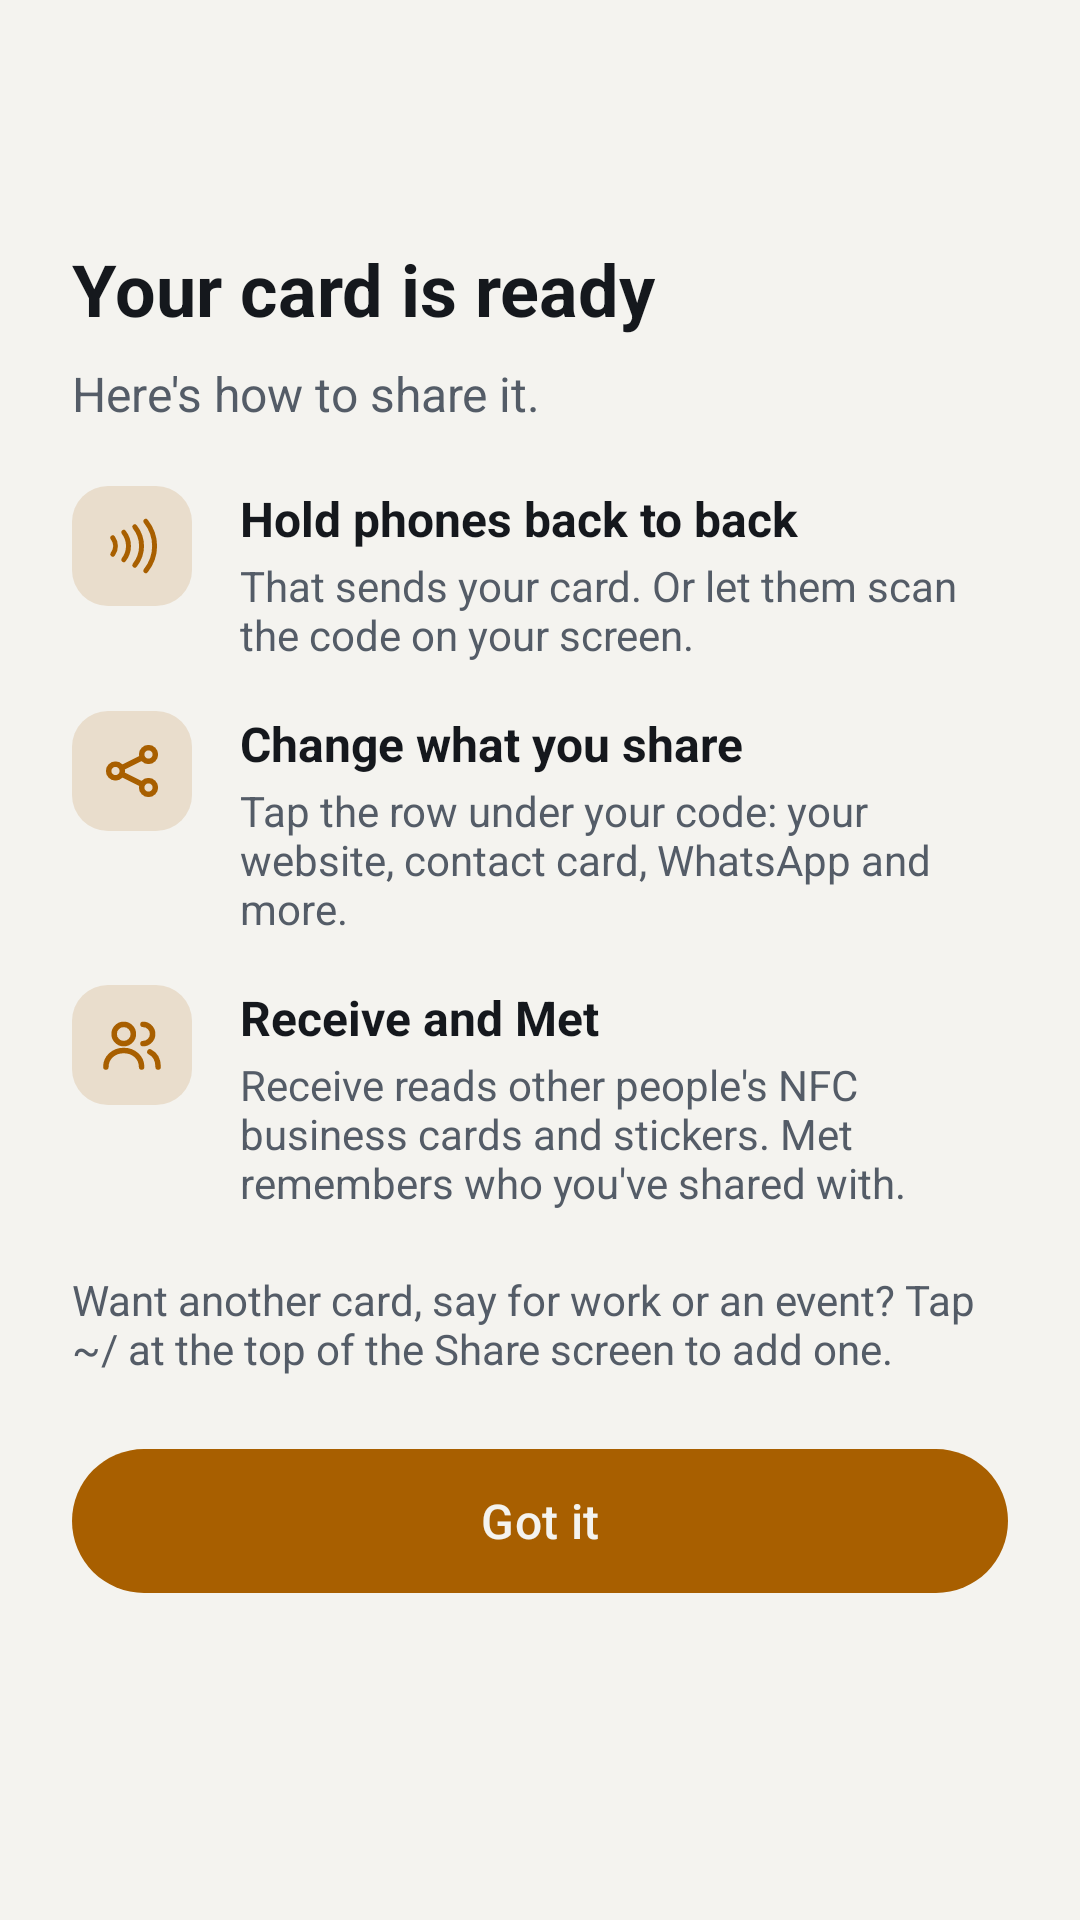

Icons on this 1080px×1920px Android screen, each with the point to tap as point (x, y):
feature tap: point (132, 546)
